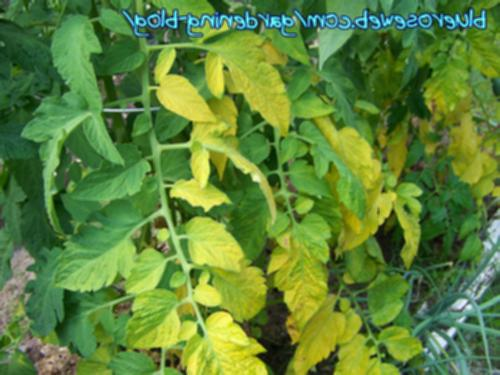Tomato leaf yellow virus: (211, 30, 291, 129), (266, 218, 335, 330), (313, 112, 381, 225), (52, 231, 134, 307), (184, 208, 250, 288), (157, 65, 217, 133)
